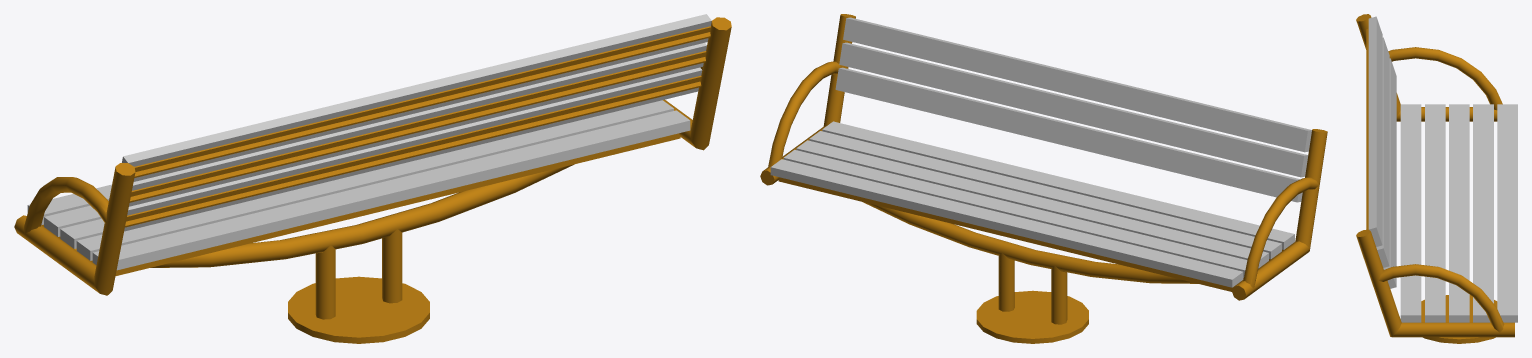
3 views of the same model, side by side, from view 1: azimuth 30°, elevation 25°; view 2: azimuth 150°, elevation 25°; view 3: azimuth 270°, elevation 25° (orthographic). The views are drawn at different scales.
Parts seen in each view (by area): view 1: mesh1_mesh1-geometry, mesh3_mesh3-geometry, mesh7_mesh7-geometry, mesh19_mesh19-geometry, mesh18_mesh18-geometry, mesh12_mesh12-geometry, mesh16_mesh16-geometry, mesh5_mesh5-geometry; view 2: mesh1_mesh1-geometry, mesh7_mesh7-geometry, mesh19_mesh19-geometry, mesh18_mesh18-geometry, mesh12_mesh12-geometry, mesh16_mesh16-geometry, mesh5_mesh5-geometry, mesh6_mesh6-geometry; view 3: mesh1_mesh1-geometry, mesh7_mesh7-geometry, mesh6_mesh6-geometry, mesh5_mesh5-geometry, mesh18_mesh18-geometry, mesh3_mesh3-geometry.
Boxes of the visible parts, box(x1,y1,x2,y2) form: mesh1_mesh1-geometry: box(27, 14, 711, 270); mesh3_mesh3-geometry: box(125, 26, 710, 227); mesh7_mesh7-geometry: box(14, 17, 731, 295); mesh19_mesh19-geometry: box(74, 164, 574, 267); mesh18_mesh18-geometry: box(288, 276, 429, 343); mesh12_mesh12-geometry: box(42, 133, 680, 275); mesh16_mesh16-geometry: box(315, 229, 402, 319); mesh5_mesh5-geometry: box(24, 177, 108, 233); mesh1_mesh1-geometry: box(770, 17, 1311, 287); mesh7_mesh7-geometry: box(760, 14, 1327, 300); mesh19_mesh19-geometry: box(863, 202, 1197, 283); mesh18_mesh18-geometry: box(976, 290, 1088, 343); mesh12_mesh12-geometry: box(778, 177, 1283, 291); mesh16_mesh16-geometry: box(998, 253, 1067, 324); mesh5_mesh5-geometry: box(1243, 177, 1318, 288); mesh6_mesh6-geometry: box(768, 61, 840, 166); mesh1_mesh1-geometry: box(1368, 16, 1517, 322); mesh7_mesh7-geometry: box(1356, 14, 1514, 337); mesh6_mesh6-geometry: box(1378, 264, 1504, 332); mesh5_mesh5-geometry: box(1388, 47, 1502, 110); mesh18_mesh18-geometry: box(1421, 295, 1497, 343); mesh3_mesh3-geometry: box(1366, 28, 1368, 229).
Size of the model in its own units: 0.8873 by 0.3716 by 0.2733.
